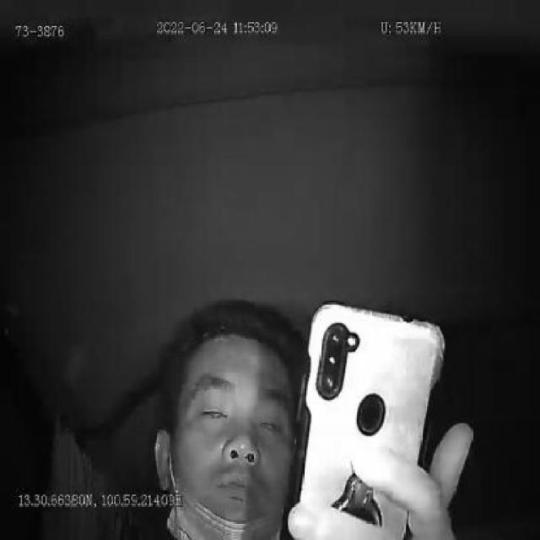phone: (286, 302, 449, 540)
